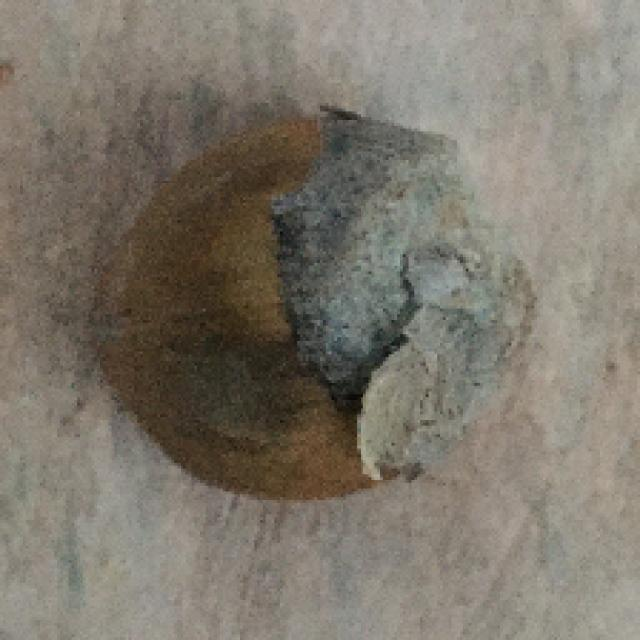DamagedHazelnut: (91, 124, 538, 500)
